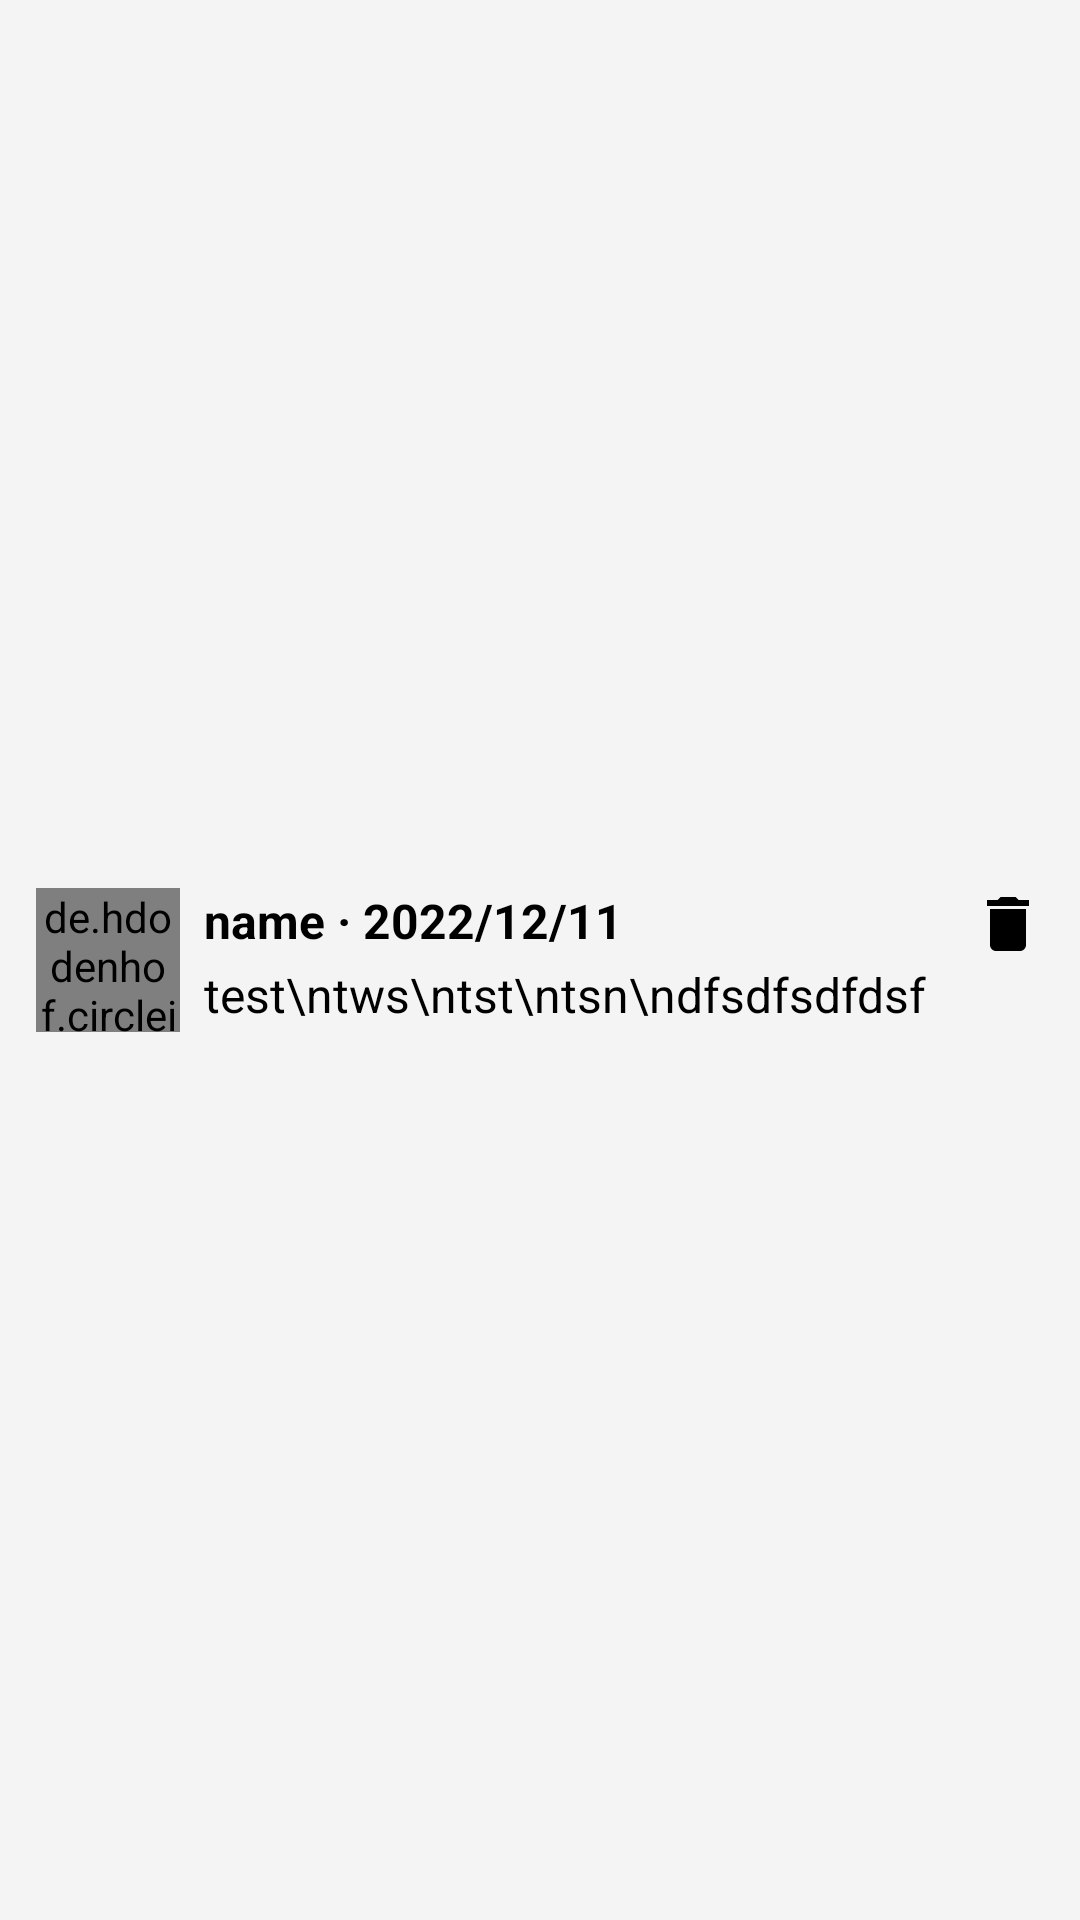

Point at icon controls on the screen. Image size 1080*1920, points as (x,y).
delete: (1008,924)
